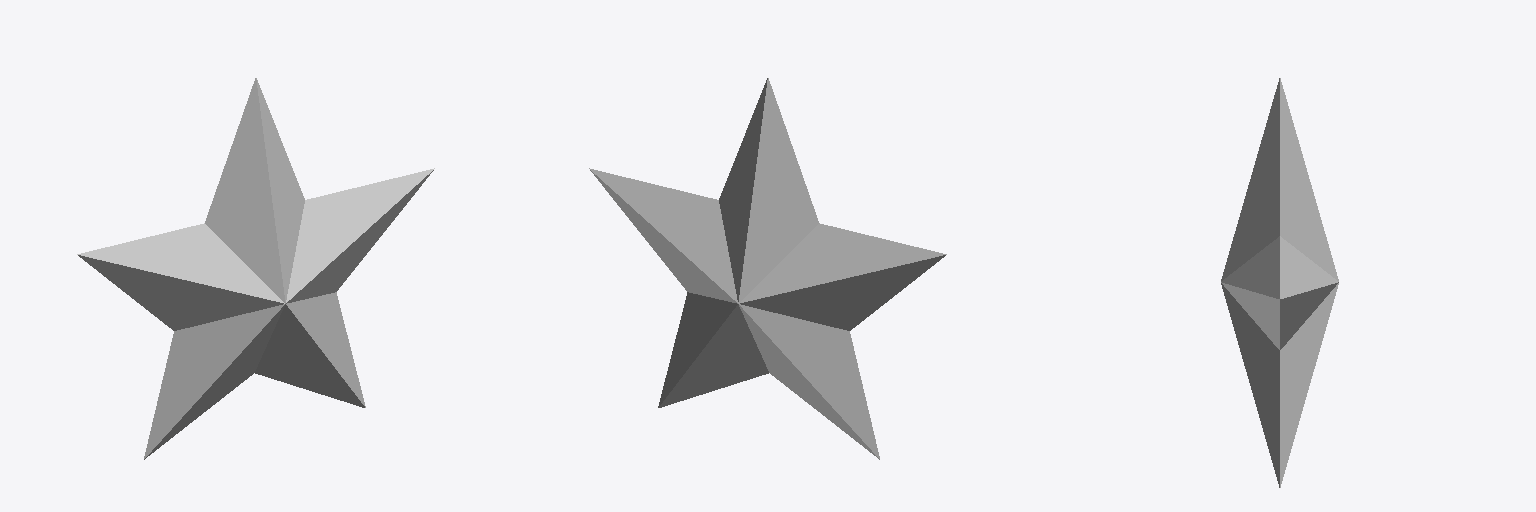
File: star.obj
3 renders of one model, left to right at view 1: azimuth 30°, elevation 25°; view 2: azimuth 150°, elevation 25°; view 3: azimuth 270°, elevation 25°, orthographic.
Visible parts, largest first — view 1: Plane; view 2: Plane; view 3: Plane.
Boxes of the visible parts, <box> form: Plane: <box>77,78,434,459</box>; Plane: <box>589,78,946,459</box>; Plane: <box>1221,78,1338,487</box>.
Bounding box in the file's own units: 0.3746 × 0.3581 × 0.1074.